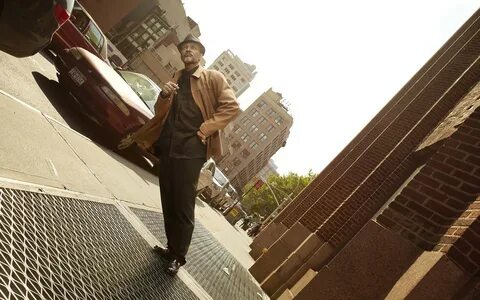awake: (152, 32, 242, 277)
